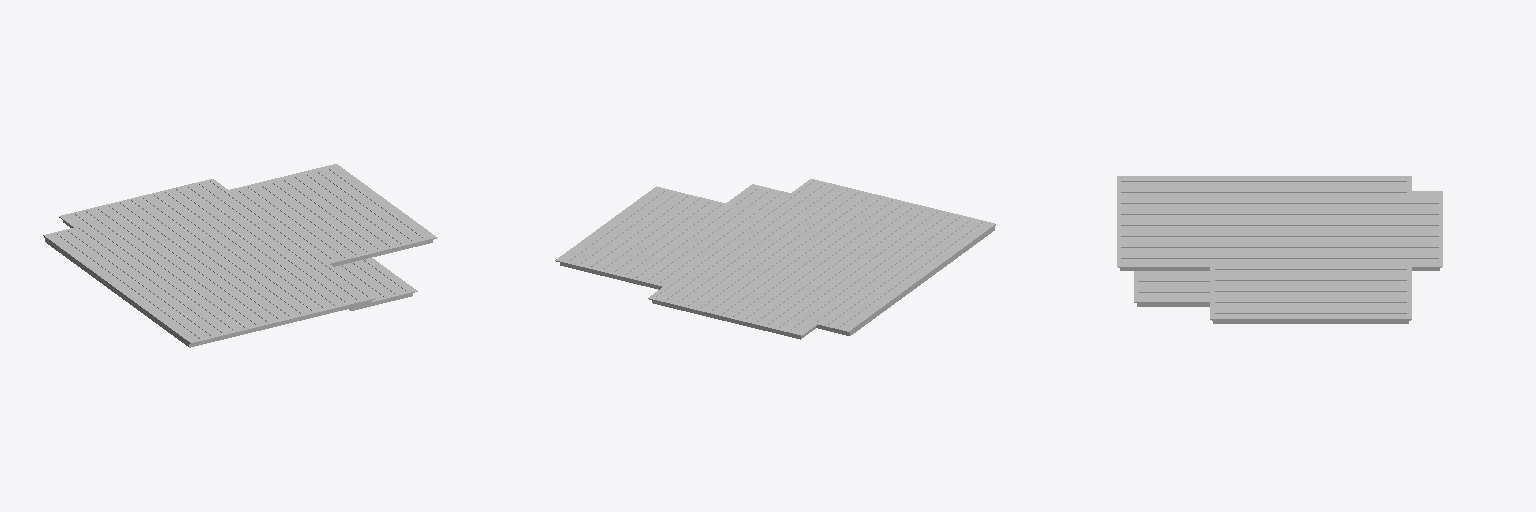
The picture shows the model from 3 angles: view 1: azimuth 30°, elevation 25°; view 2: azimuth 150°, elevation 25°; view 3: azimuth 270°, elevation 25°; orthographic projection.
Parts seen in each view (by area): view 1: MH1_OBJ_05_MH1_OBJ_05.001; view 2: MH1_OBJ_05_MH1_OBJ_05.001; view 3: MH1_OBJ_05_MH1_OBJ_05.001.
Boxes of the visible parts, <box> form: MH1_OBJ_05_MH1_OBJ_05.001: <box>43,164,437,347</box>; MH1_OBJ_05_MH1_OBJ_05.001: <box>555,179,995,339</box>; MH1_OBJ_05_MH1_OBJ_05.001: <box>1117,176,1442,323</box>.
Bounding box in the file's own units: 83.46 × 4.74 × 80.53.